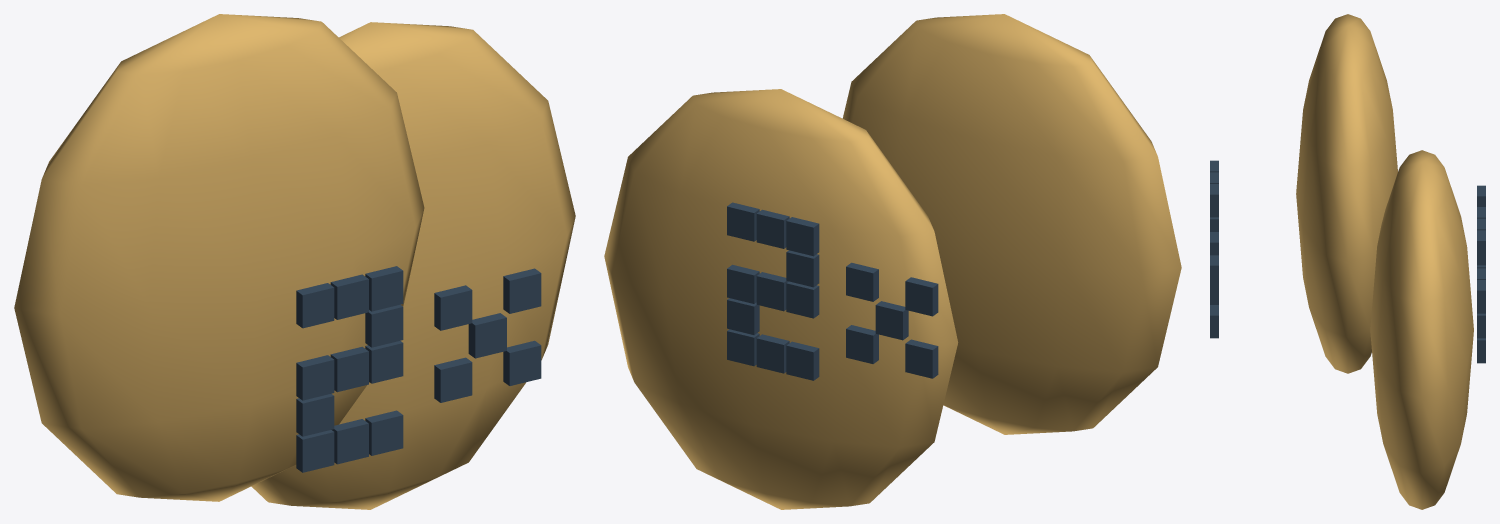
Rendered from coins.glb.
3 renders of one model, left to right at view 1: azimuth 30°, elevation 25°; view 2: azimuth 150°, elevation 25°; view 3: azimuth 270°, elevation 25°, orthographic. The views are drawn at different scales.
Visible parts, largest first — view 1: coins; view 2: coins; view 3: coins.
Part boxes in pixels (x1,y1,x2,y2): coins: (14,14,575,509); coins: (604,14,1181,509); coins: (1210,14,1485,509).
Size of the model in its own units: 0.66 by 0.6 by 0.372.
